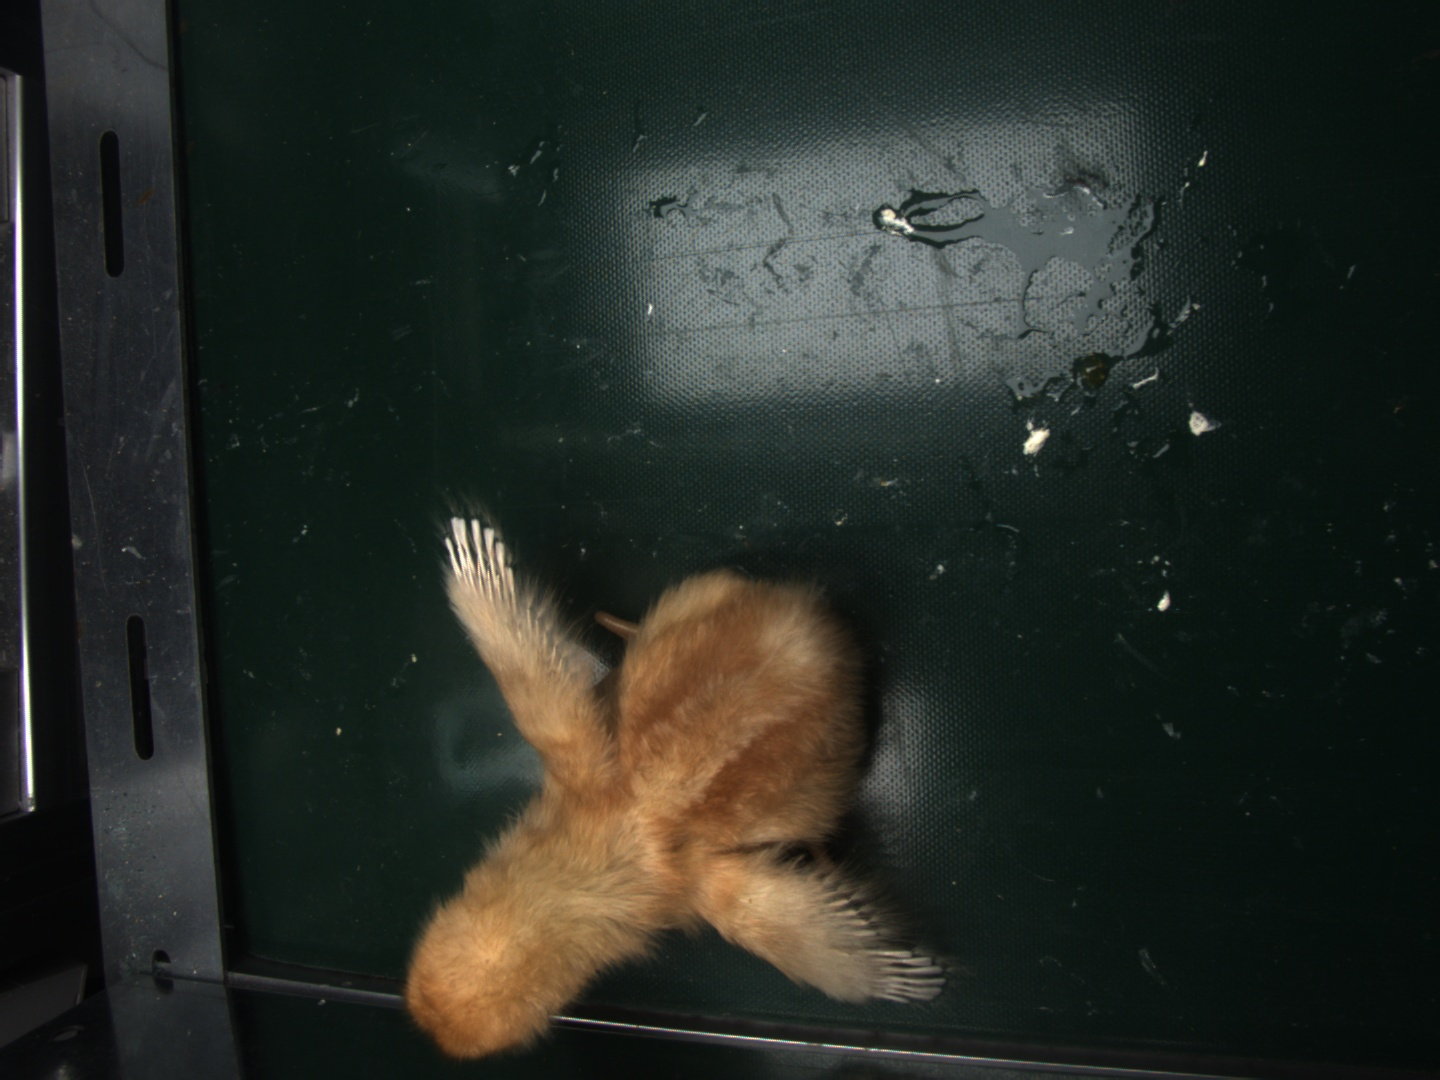female: (448, 516, 513, 604)
